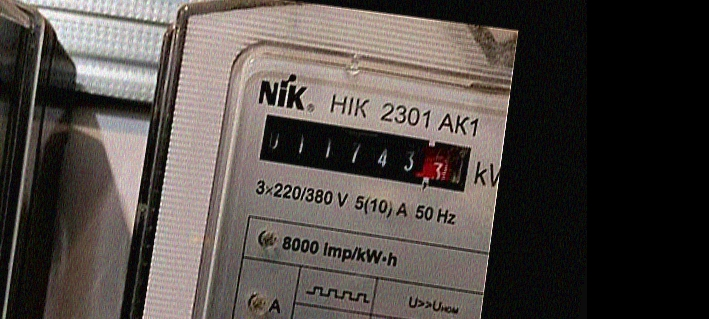0: (265, 123, 283, 152)
1: (292, 127, 309, 156), (320, 131, 336, 161)
3: (399, 146, 417, 174), (428, 160, 445, 182)
4: (374, 144, 391, 170)
7: (346, 138, 363, 164)
screen: (249, 108, 482, 201)
